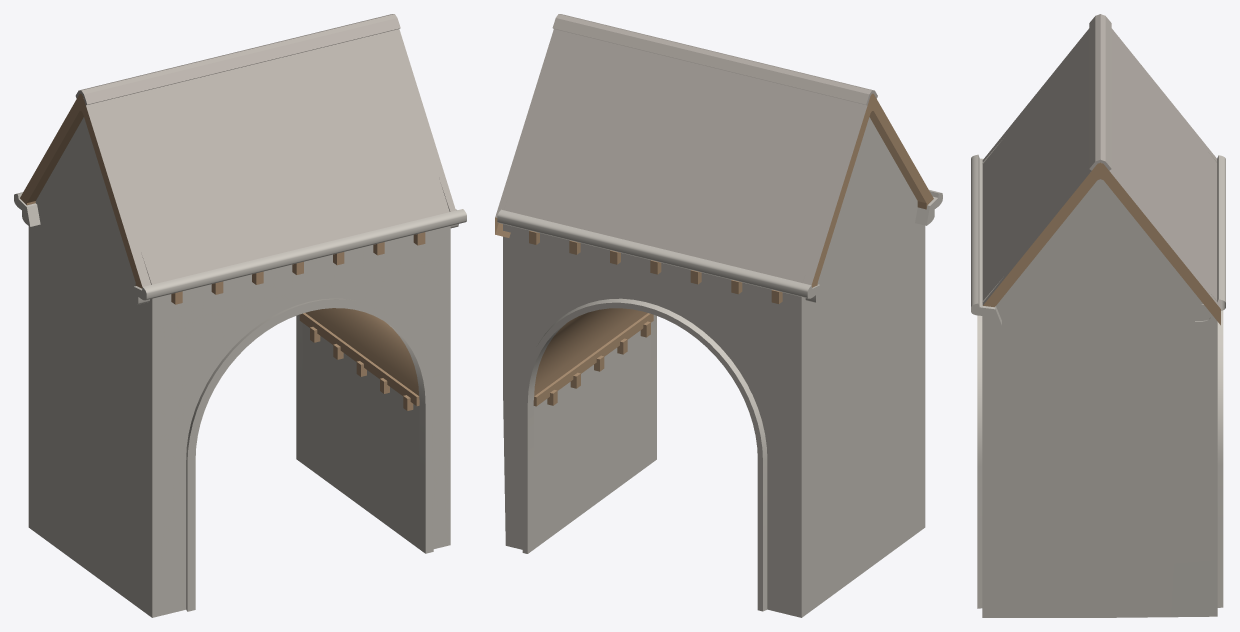
Rendered from kb3d_gate_c.glb.
The picture shows the model from 3 angles, left to right: view 1: azimuth 30°, elevation 25°; view 2: azimuth 150°, elevation 25°; view 3: azimuth 270°, elevation 25°; orthographic projection. The views are drawn at different scales.
Visible parts, largest first — view 1: EXPORT_kb3d_gate_c; view 2: EXPORT_kb3d_gate_c; view 3: EXPORT_kb3d_gate_c.
Part boxes in pixels (left/top/right/bottom): EXPORT_kb3d_gate_c: left=14, top=14, right=466, bottom=617; EXPORT_kb3d_gate_c: left=495, top=14, right=942, bottom=617; EXPORT_kb3d_gate_c: left=971, top=14, right=1225, bottom=617.
Size of the model in its own units: 5.46 by 7.88 by 3.95.
